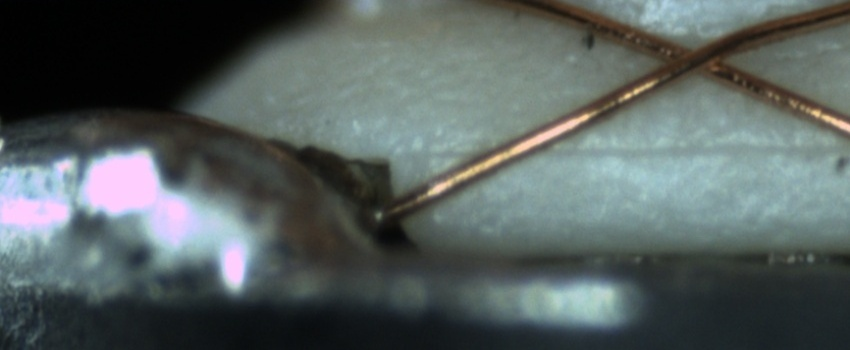CL: (647, 26, 749, 86)
DL: (436, 120, 850, 184)
